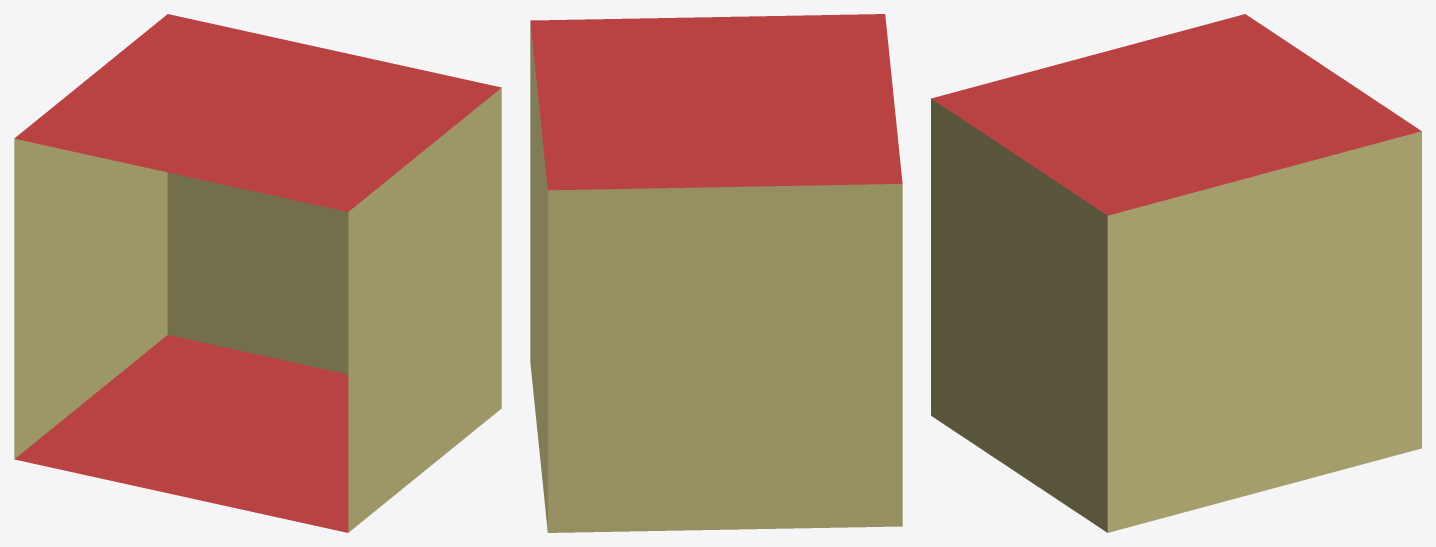
3 renders of one model, left to right at view 1: azimuth 30°, elevation 25°; view 2: azimuth 150°, elevation 25°; view 3: azimuth 270°, elevation 25°, orthographic. The views are drawn at different scales.
Size of the model in its own units: 9.08 by 9.33 by 6.66.
